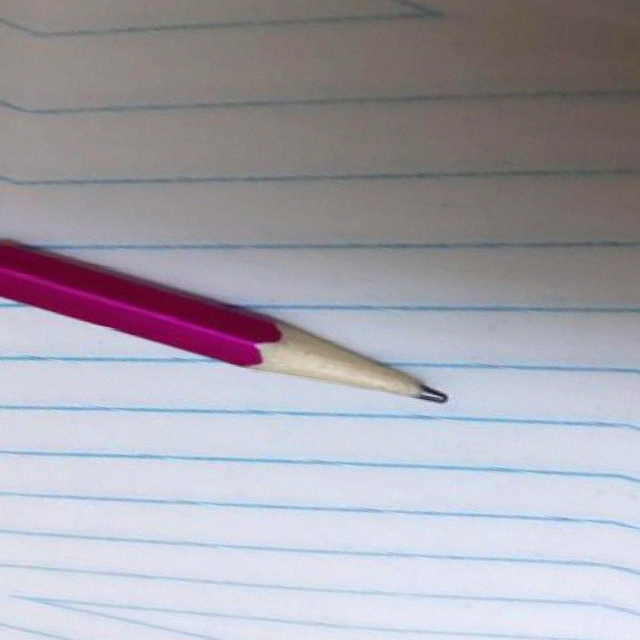pencil: (231, 325, 452, 416)
